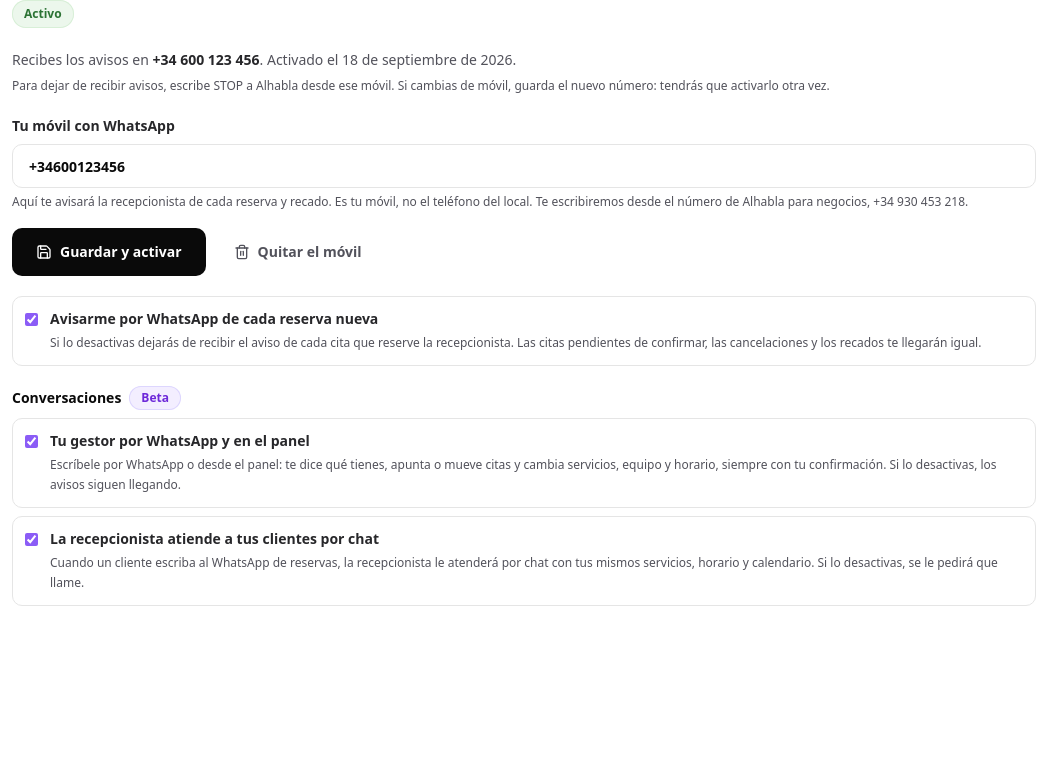
Scenario: WhatsappDueno › desmarcar el toggle guarda notificationPrefs y lo confirma sin esperar al refetch
The width and height of the screenshot is (1048, 768).
Click the checkbox labelled "Avisarme por WhatsApp de cada reserva nueva" at (32, 320), box [25,313,38,326]
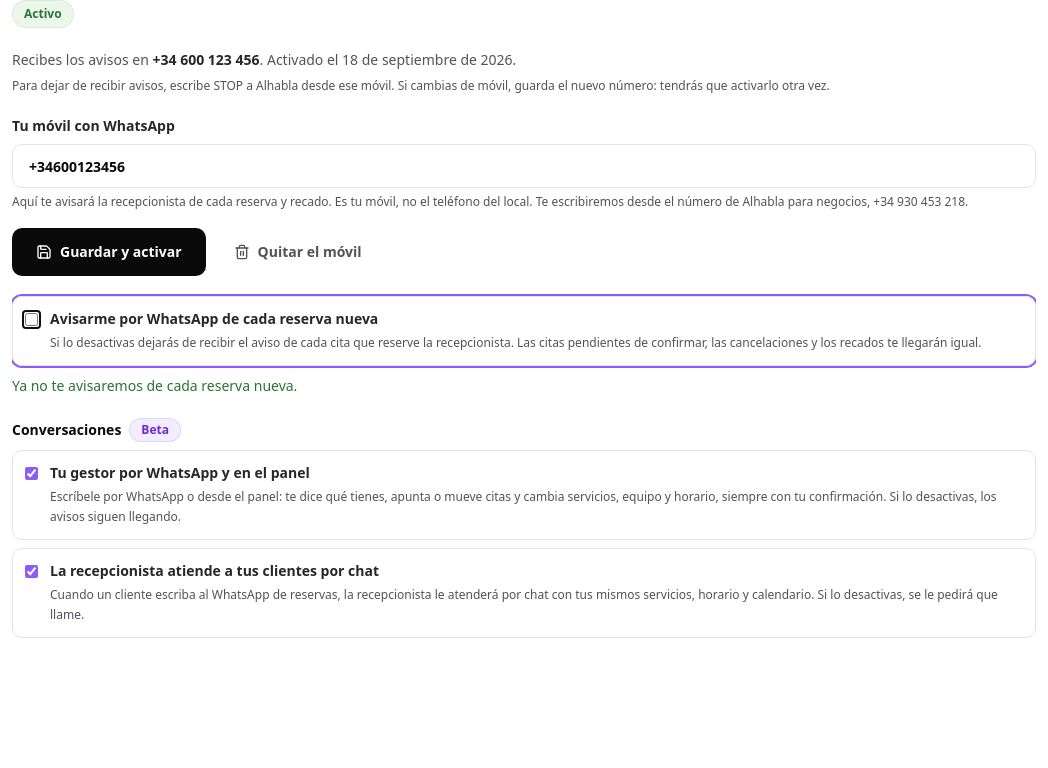
Check: the checkbox labelled "Avisarme por WhatsApp de cada reserva nueva" is not checked, box [25,313,38,326]
Check: the text "Ya no te avisaremos de cada reserva nueva." is shown, box [12,376,297,395]
